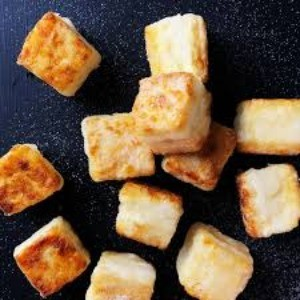tofu_brain food: (80, 53, 250, 232)
